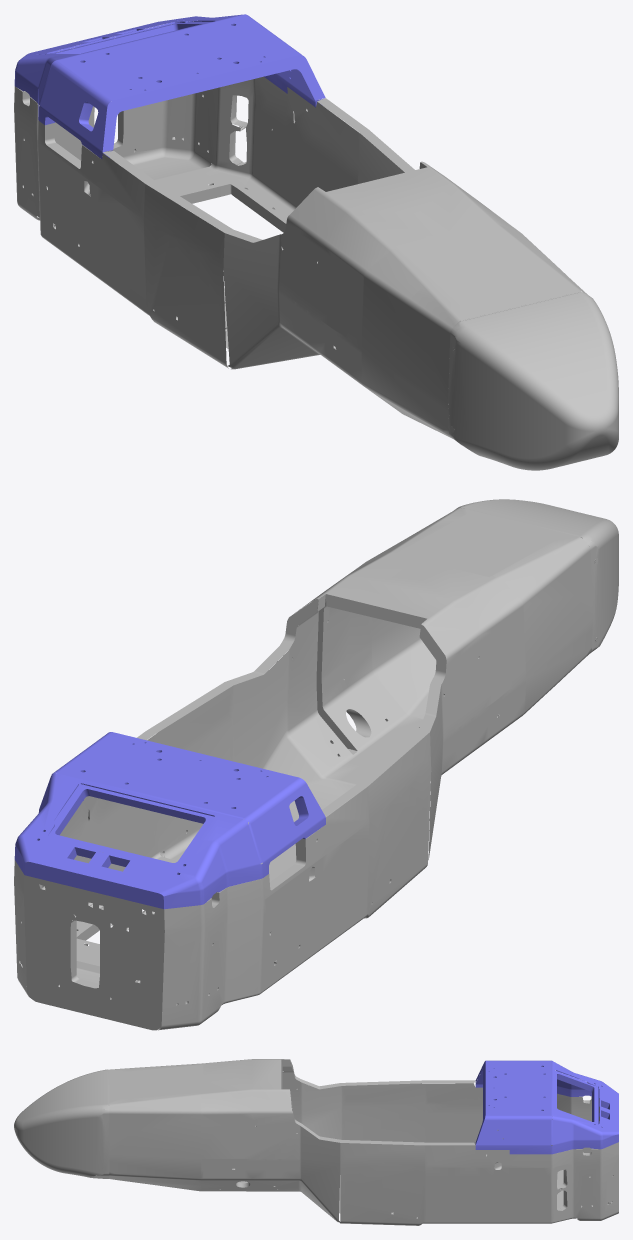
Rendered from r27e-shelf.glb.
3 views of the same model, one above another, from view 1: azimuth 30°, elevation 25°; view 2: azimuth 150°, elevation 25°; view 3: azimuth 270°, elevation 25° (orthographic). The views are drawn at different scales.
Visible parts, largest first — view 1: 27 Monocoque-1, 27 Nose Cone-1, 27 Monocoque Flap-1; view 2: 27 Monocoque-1, 27 Nose Cone-1, 27 Monocoque Flap-1; view 3: 27 Monocoque-1, 27 Nose Cone-1, 27 Monocoque Flap-1.
Part boxes in pixels (box(x1,y1,x2,y2)): 27 Monocoque-1: box(14, 14, 587, 438); 27 Nose Cone-1: box(448, 291, 618, 470); 27 Monocoque Flap-1: box(395, 223, 562, 312); 27 Monocoque-1: box(14, 508, 592, 1030); 27 Nose Cone-1: box(455, 499, 618, 653); 27 Monocoque Flap-1: box(395, 513, 562, 576); 27 Monocoque-1: box(109, 1059, 618, 1225); 27 Nose Cone-1: box(14, 1069, 109, 1178); 27 Monocoque Flap-1: box(115, 1065, 203, 1099).
Size of what is drawn, in the model's own units: 0.644 by 0.555 by 2.5.
